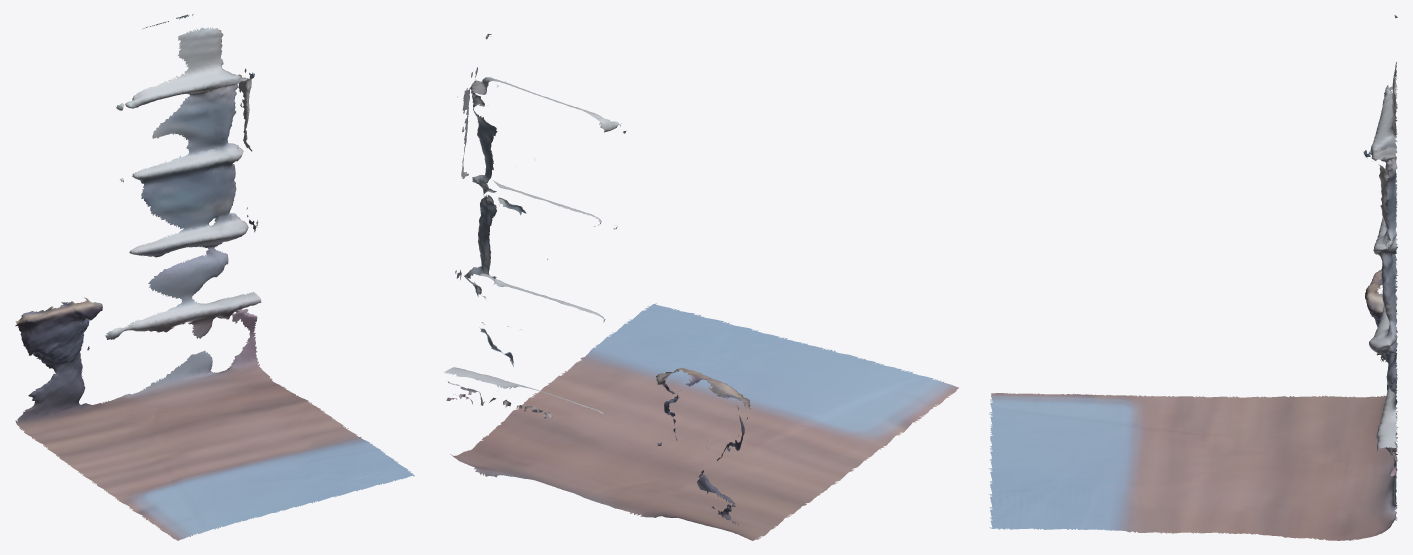
The model's file is apartment-full-40-c64d08fc9760.glb.
3 renders of one model, left to right at view 1: azimuth 30°, elevation 25°; view 2: azimuth 150°, elevation 25°; view 3: azimuth 270°, elevation 25°, orthographic. The views are drawn at different scales.
Bounding box in the file's own units: 0.953 × 1.4 × 1.12.
